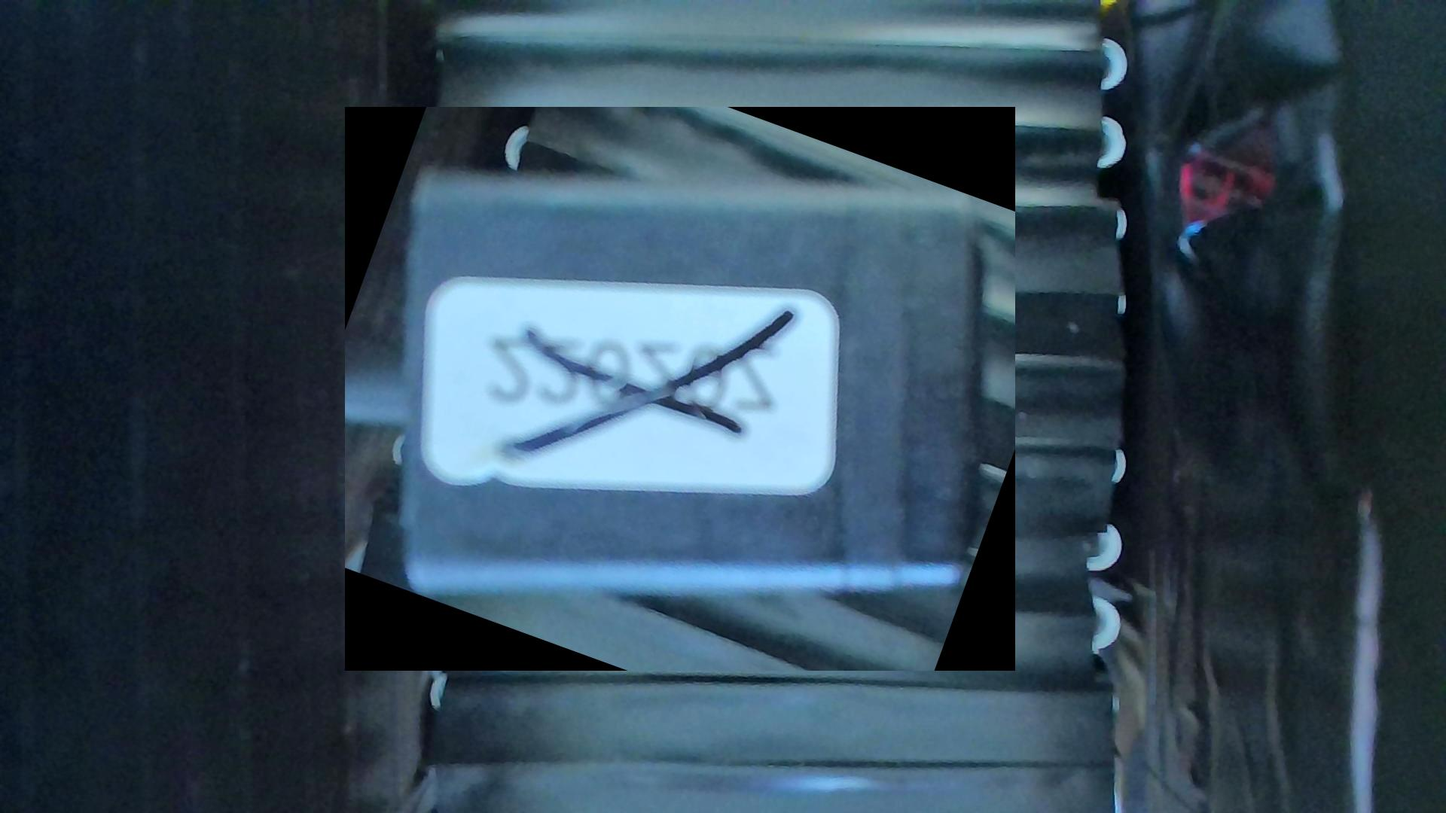motor: (345, 107, 1015, 671)
